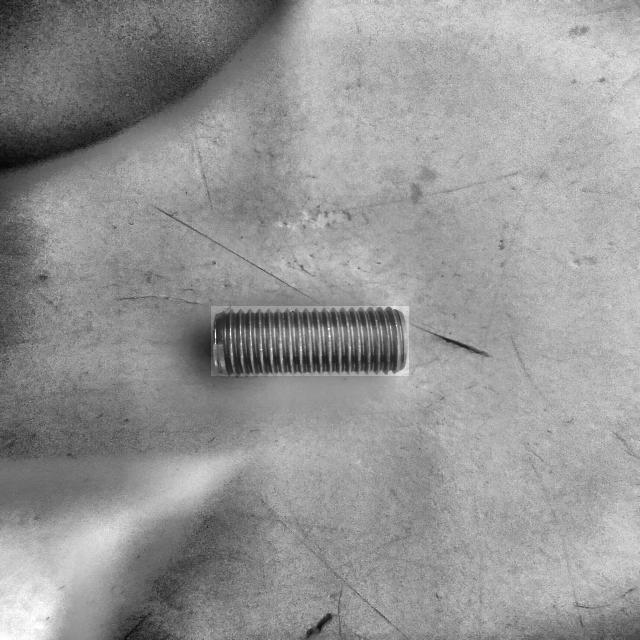Normal: (211, 306, 409, 376)
